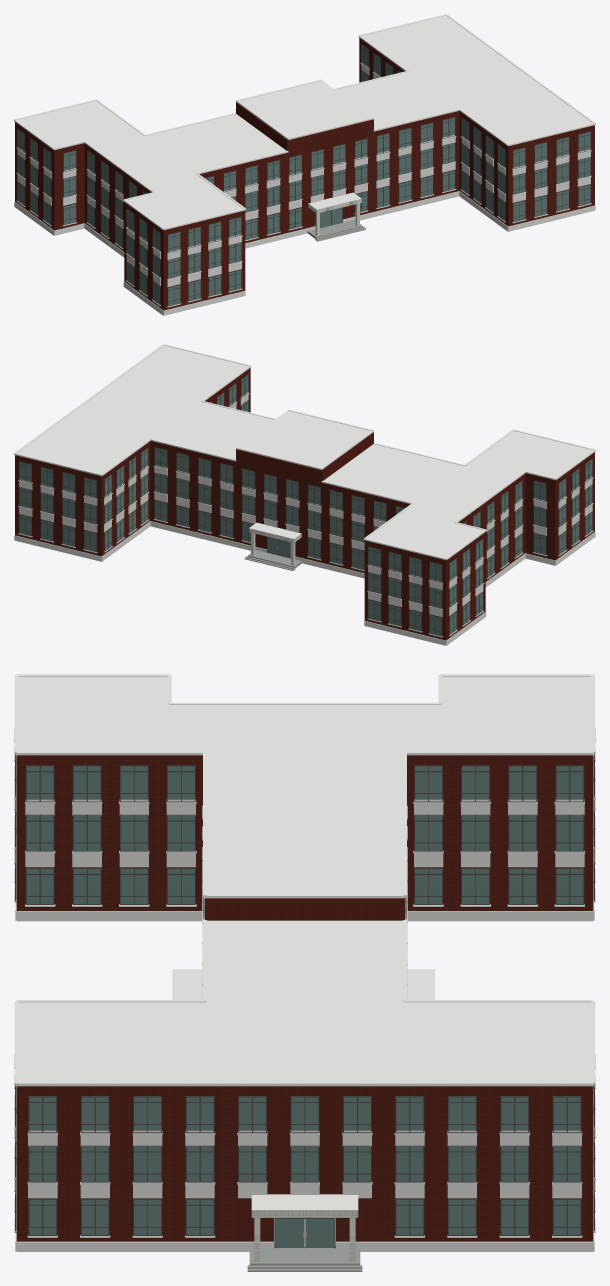
File: buildings-55-medium.glb
3 views of the same model, one above another, from view 1: azimuth 30°, elevation 25°; view 2: azimuth 150°, elevation 25°; view 3: azimuth 270°, elevation 25° (orthographic). The views are drawn at different scales.
Visible parts, largest first — view 1: 化学楼 · Chemistry white roof, 化学楼 · Chemistry deep red brick walls and raised centre, 化学楼 · Chemistry dark bronze frames, 化学楼 · Chemistry white spandrel panels, 化学楼 · wall 02 window glass, 化学楼 · wall 00 window glass, 化学楼 · wall 04 window glass, 化学楼 · wall 03 window glass, 化学楼 · wall 13 window glass, 化学楼 · wall 11 window glass, 化学楼 · wall 15 window glass, 化学楼 · wall 12 window glass (+2 smaller); view 2: 化学楼 · Chemistry white roof, 化学楼 · Chemistry deep red brick walls and raised centre, 化学楼 · Chemistry dark bronze frames, 化学楼 · Chemistry white spandrel panels, 化学楼 · wall 08 window glass, 化学楼 · wall 10 window glass, 化学楼 · wall 06 window glass, 化学楼 · wall 07 window glass, 化学楼 · wall 13 window glass, 化学楼 · wall 15 window glass, 化学楼 · wall 11 window glass, 化学楼 · wall 14 window glass (+2 smaller); view 3: 化学楼 · Chemistry white roof, 化学楼 · Chemistry deep red brick walls and raised centre, 化学楼 · Chemistry white spandrel panels, 化学楼 · wall 05 window glass, 化学楼 · Chemistry dark bronze frames, 化学楼 · wall 01 window glass, 化学楼 · wall 09 window glass, 化学楼 · Chemistry entrance granite, 化学楼 · Chemistry glazing, 化学楼 · east portico roof.
Boxes of the visible parts, <box> form: 化学楼 · Chemistry white roof: <box>14,14,595,230</box>; 化学楼 · Chemistry deep red brick walls and raised centre: <box>15,38,594,310</box>; 化学楼 · Chemistry dark bronze frames: <box>17,44,590,306</box>; 化学楼 · Chemistry white spandrel panels: <box>14,62,595,315</box>; 化学楼 · wall 02 window glass: <box>205,117,454,239</box>; 化学楼 · wall 00 window glass: <box>168,217,241,305</box>; 化学楼 · wall 04 window glass: <box>513,132,590,221</box>; 化学楼 · wall 03 window glass: <box>462,118,504,220</box>; 化学楼 · wall 13 window glass: <box>87,151,145,246</box>; 化学楼 · wall 11 window glass: <box>17,130,50,224</box>; 化学楼 · wall 15 window glass: <box>127,210,159,304</box>; 化学楼 · wall 12 window glass: <box>64,151,75,224</box>; 化学楼 · Chemistry white roof: <box>14,344,595,560</box>; 化学楼 · Chemistry deep red brick walls and raised centre: <box>15,368,594,640</box>; 化学楼 · Chemistry dark bronze frames: <box>19,374,592,636</box>; 化学楼 · Chemistry white spandrel panels: <box>14,392,595,645</box>; 化学楼 · wall 08 window glass: <box>155,447,404,569</box>; 化学楼 · wall 10 window glass: <box>368,547,441,635</box>; 化学楼 · wall 06 window glass: <box>19,462,96,551</box>; 化学楼 · wall 07 window glass: <box>105,448,147,550</box>; 化学楼 · wall 13 window glass: <box>464,481,522,576</box>; 化学楼 · wall 15 window glass: <box>559,460,592,554</box>; 化学楼 · wall 11 window glass: <box>450,540,482,634</box>; 化学楼 · wall 14 window glass: <box>534,481,545,554</box>; 化学楼 · Chemistry white roof: <box>14,674,595,1210</box>; 化学楼 · Chemistry deep red brick walls and raised centre: <box>16,755,593,1241</box>; 化学楼 · Chemistry white spandrel panels: <box>14,728,595,1251</box>; 化学楼 · wall 05 window glass: <box>29,1097,580,1234</box>; 化学楼 · Chemistry dark bronze frames: <box>15,754,594,1248</box>; 化学楼 · wall 01 window glass: <box>26,766,194,904</box>; 化学楼 · wall 09 window glass: <box>415,766,583,904</box>; 化学楼 · Chemistry entrance granite: <box>247,1247,362,1271</box>; 化学楼 · Chemistry glazing: <box>275,1219,334,1247</box>; 化学楼 · east portico roof: <box>252,1210,357,1217</box>.
Bounding box in the file's own units: 69.02 × 14.45 × 39.55.
9 materials, 1 textured.
